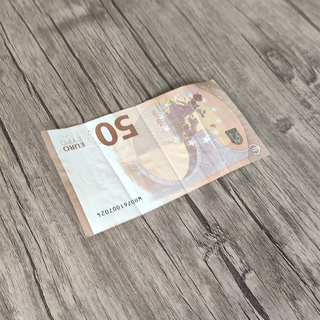50EUROBack: (37, 77, 272, 239)
